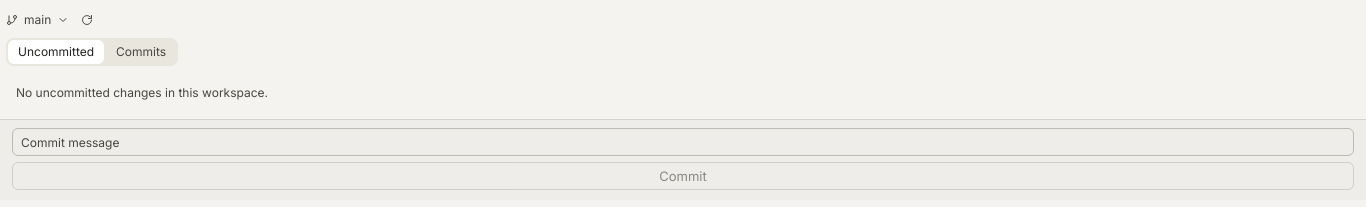
Test case: ChangesSurface › shows a wire refusal as the daemon's sentence, alone
The width and height of the screenshot is (1366, 207).
Click the button "Commits": (141, 52) [106,40,176,64]
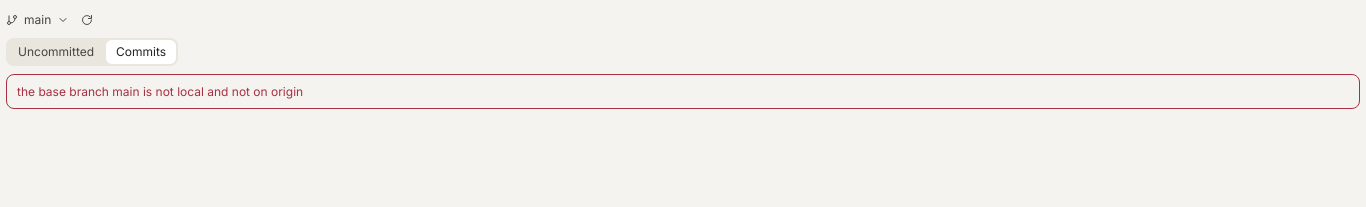
Check: the message "the base branch main is not local and not on origin" is shown, box [6,74,1360,109]
